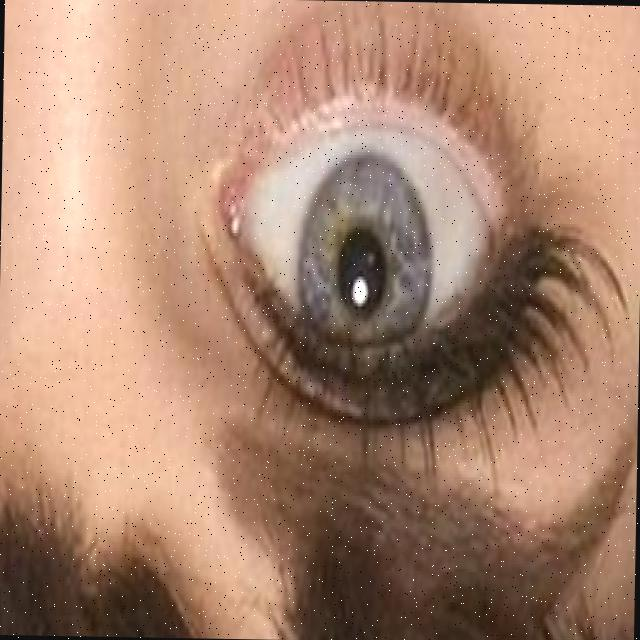Normal: (193, 39, 559, 426)
